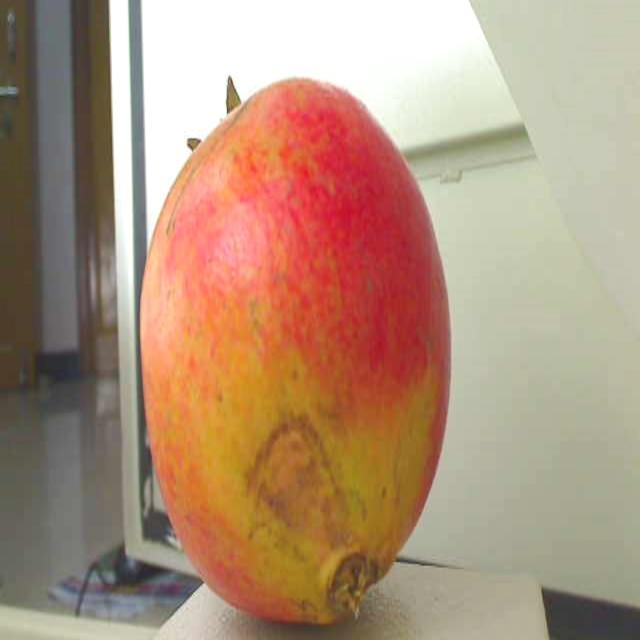pomegranate: (125, 62, 455, 640)
